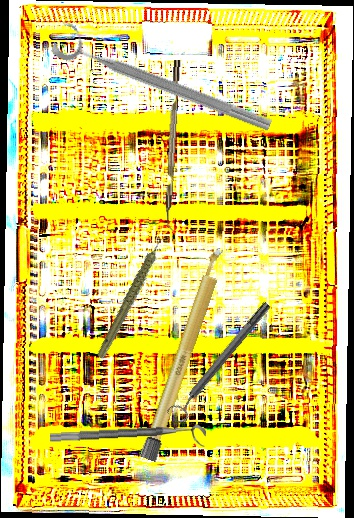Chopper: (162, 59, 189, 232)
Fixation Ring: (49, 18, 280, 138), (164, 297, 278, 426), (49, 423, 207, 456)
Handpiece: (74, 232, 193, 362)
Scalpel Handle: (139, 245, 230, 463)
